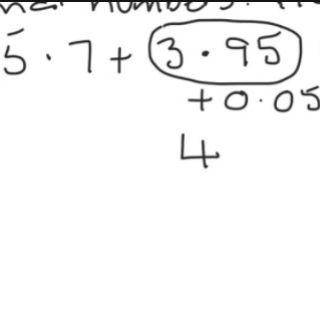.: (44, 49, 53, 64), (199, 47, 211, 58)
0: (221, 89, 249, 112)
3: (156, 35, 186, 70)
5: (177, 130, 224, 172), (3, 24, 31, 79), (256, 29, 285, 68), (300, 83, 320, 113)
7: (66, 38, 94, 76)
9: (223, 32, 251, 69)
